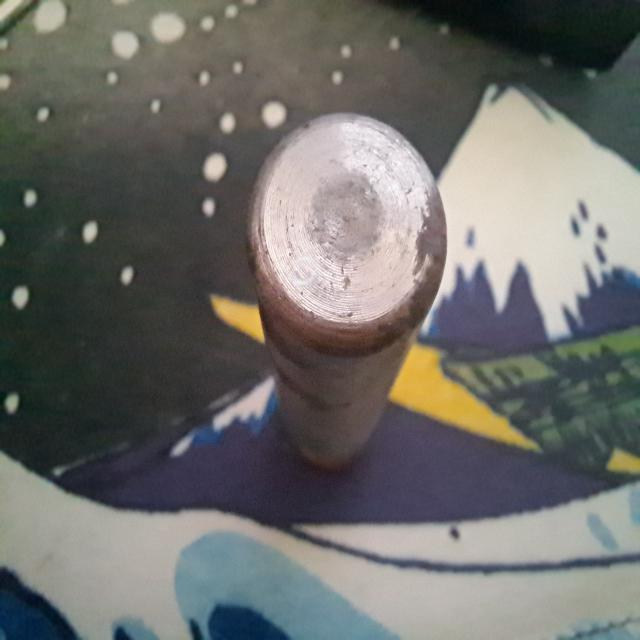defect: (288, 252, 323, 292)
planson: (243, 113, 448, 466)
